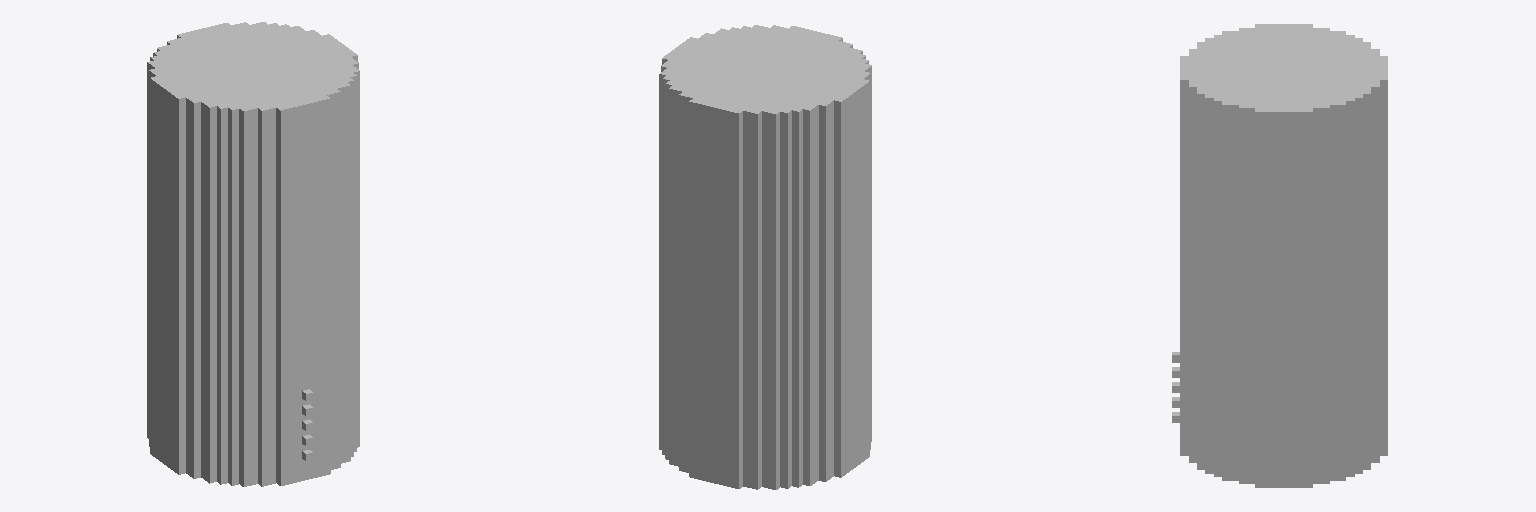
File: KitchenOPEN_Export-15.obj
3 views of the same model, side by side, from view 1: azimuth 30°, elevation 25°; view 2: azimuth 150°, elevation 25°; view 3: azimuth 270°, elevation 25° (orthographic).
Parts seen in each view (by area): view 1: KitchenOPEN_Export-15; view 2: KitchenOPEN_Export-15; view 3: KitchenOPEN_Export-15.
Boxes of the visible parts, x1=… form: KitchenOPEN_Export-15: x1=147, y1=22, x2=359, y2=486; KitchenOPEN_Export-15: x1=659, y1=25, x2=871, y2=489; KitchenOPEN_Export-15: x1=1172, y1=24, x2=1387, y2=487.
Bounding box in the file's own units: 25 × 50 × 26.